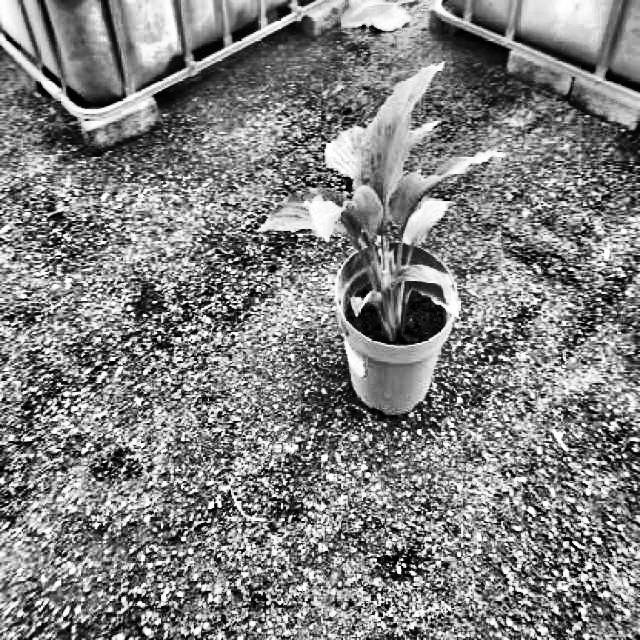plants: (260, 59, 506, 344)
